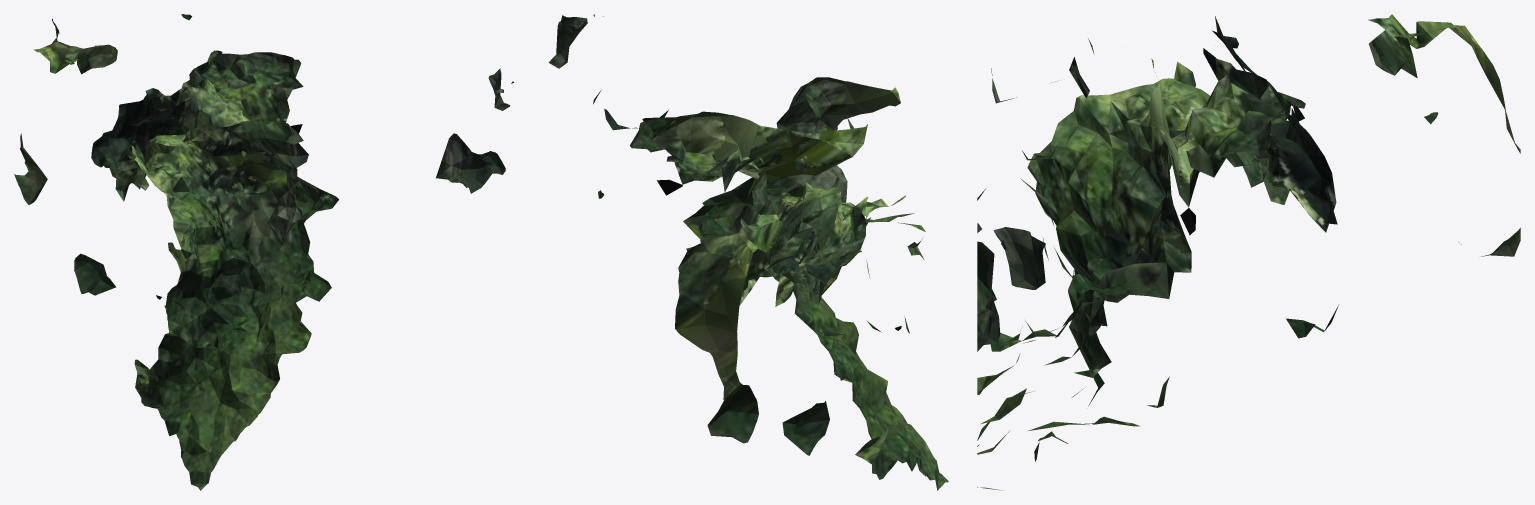
3 views of the same model, side by side, from view 1: azimuth 30°, elevation 25°; view 2: azimuth 150°, elevation 25°; view 3: azimuth 270°, elevation 25° (orthographic). The views are drawn at different scales.
Bounding box in the file's own units: 26.11 × 25.3 × 26.11.
3 materials, 3 textured.
